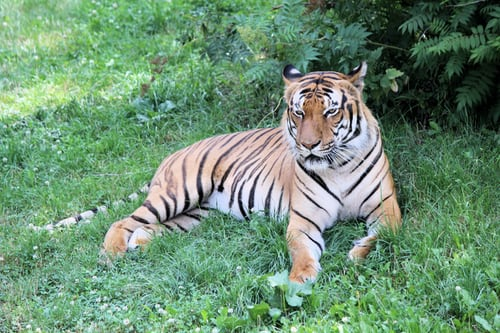tiger: (278, 65, 375, 172)
